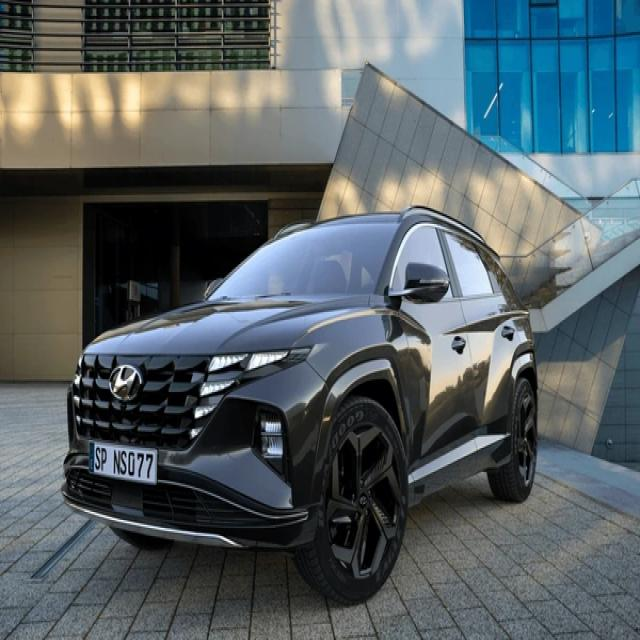hyundai: (106, 362, 147, 408)
